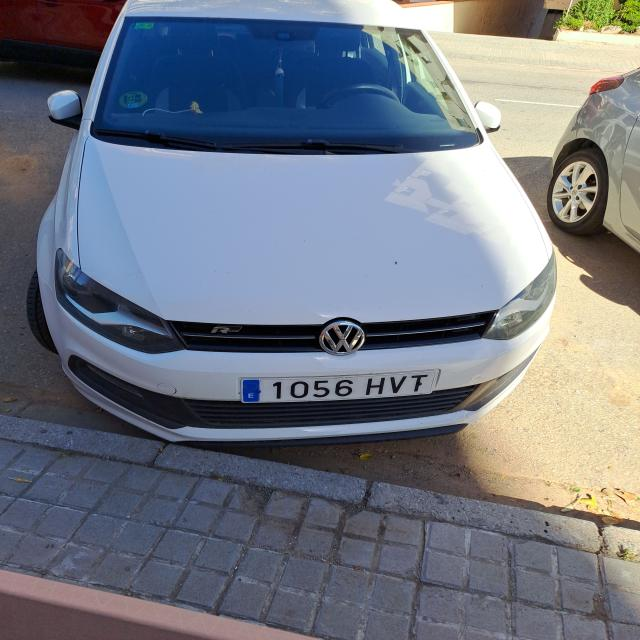license_plate-34Td: (241, 371, 439, 403)
